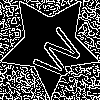W: (25, 20, 86, 85)
